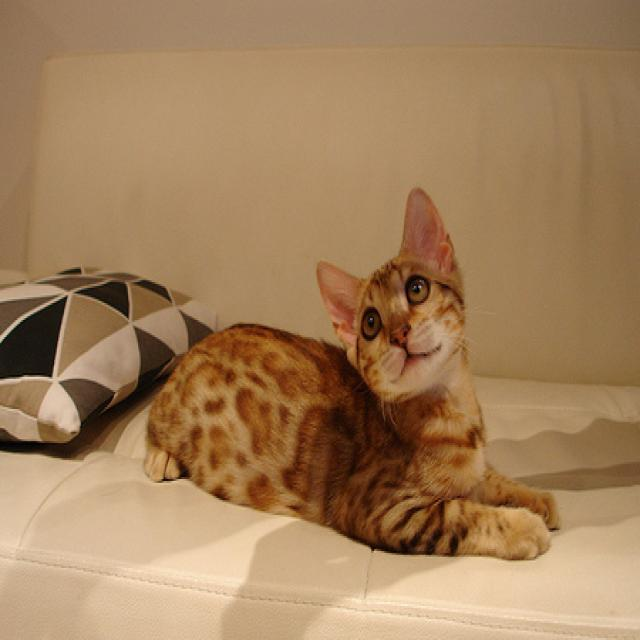Bengal: (131, 175, 564, 573)
